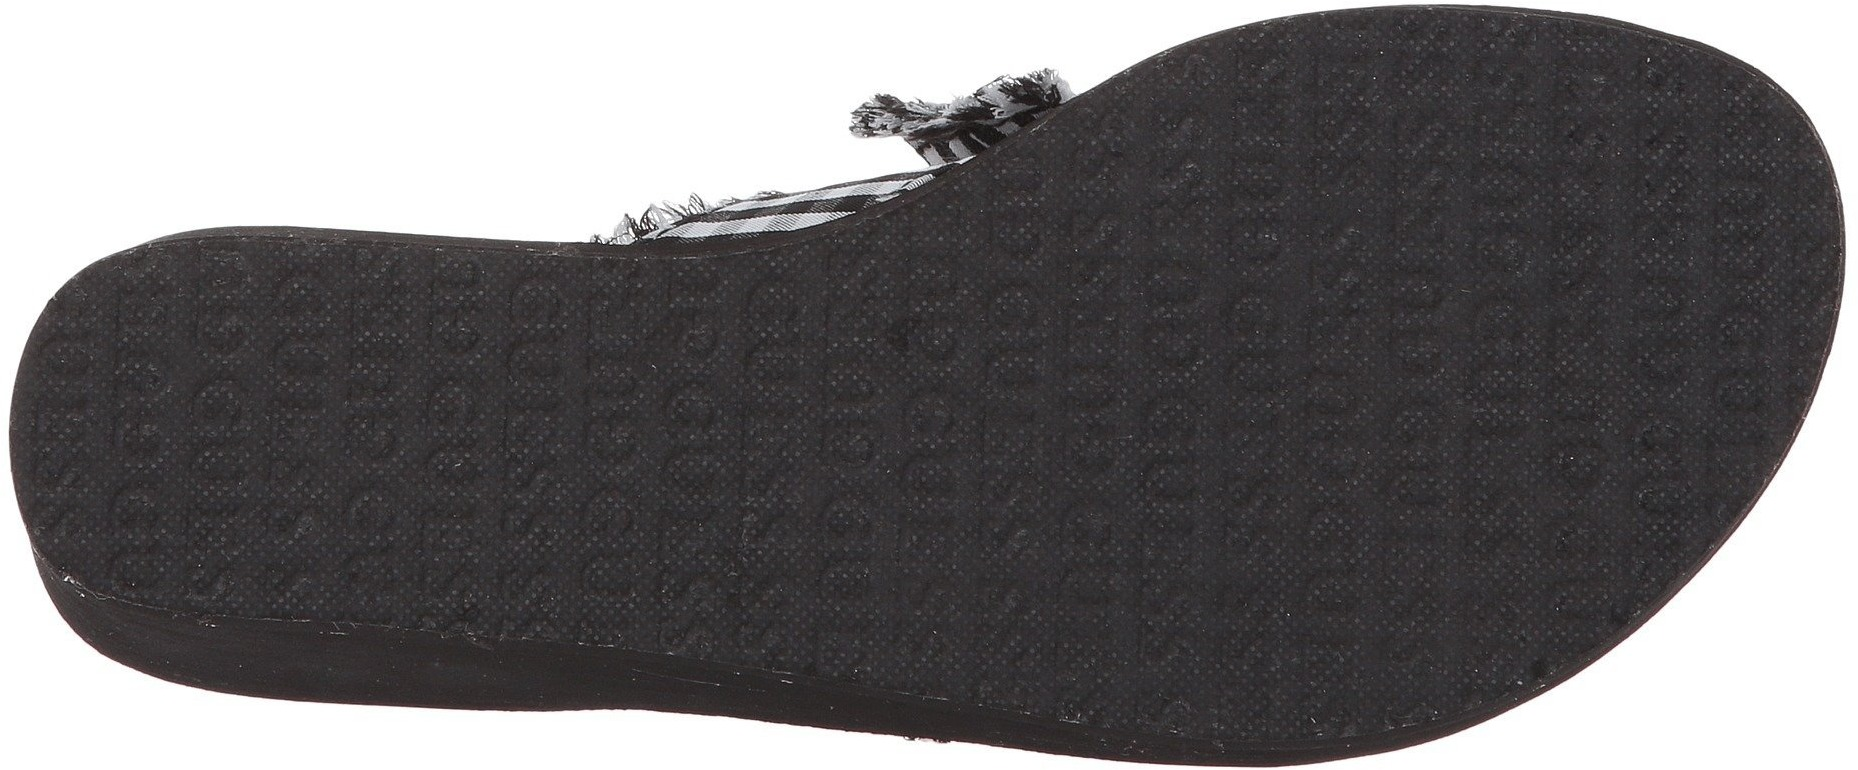text: (1314, 340, 1635, 628), (1023, 394, 1296, 668), (1202, 60, 1476, 309), (64, 297, 309, 525), (1488, 92, 1713, 309), (783, 254, 1005, 467), (789, 481, 1010, 694), (326, 280, 551, 481), (551, 272, 760, 479), (1020, 148, 1194, 376), (569, 494, 767, 672), (361, 500, 478, 635)
